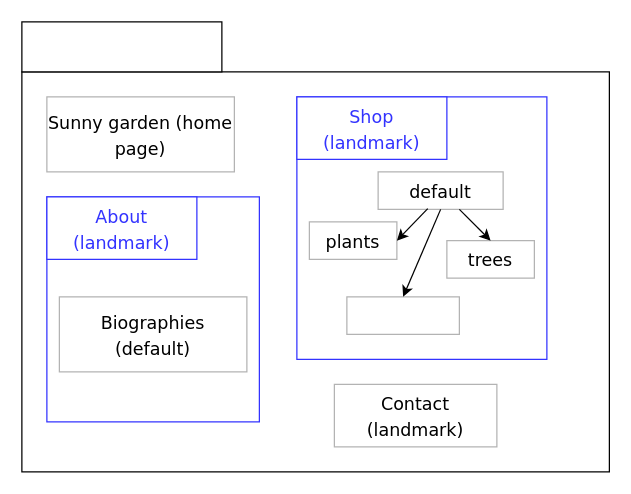
Image size: 631x494. Some labels were removed from this diagram. Here are the shapes that lost their labels. From the top down, the centre of each, then its label:
[121,46]: Sunny garden
[402,315]: accessories
